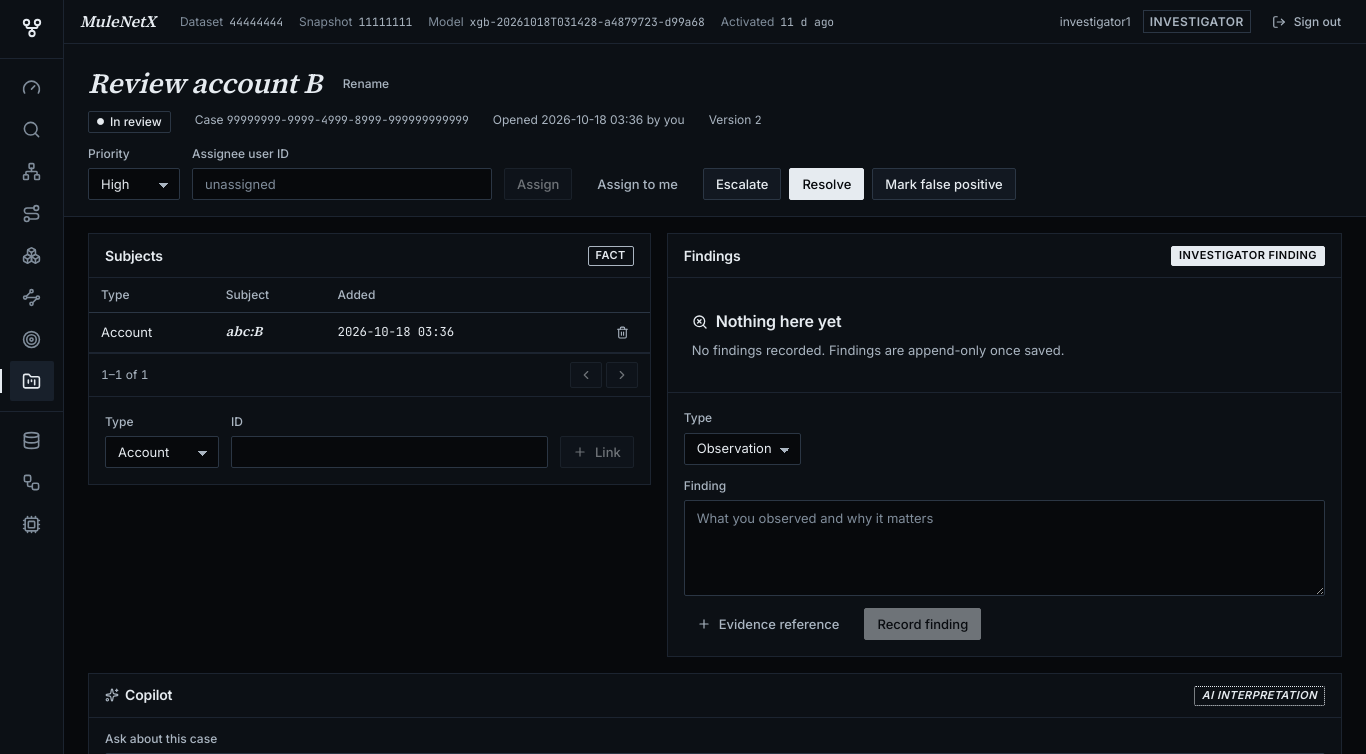
cases (T28) › offers investigators the legal transitions and applies one
Click the button "Resolve".
click(827, 184)  # box [789,168,864,200]
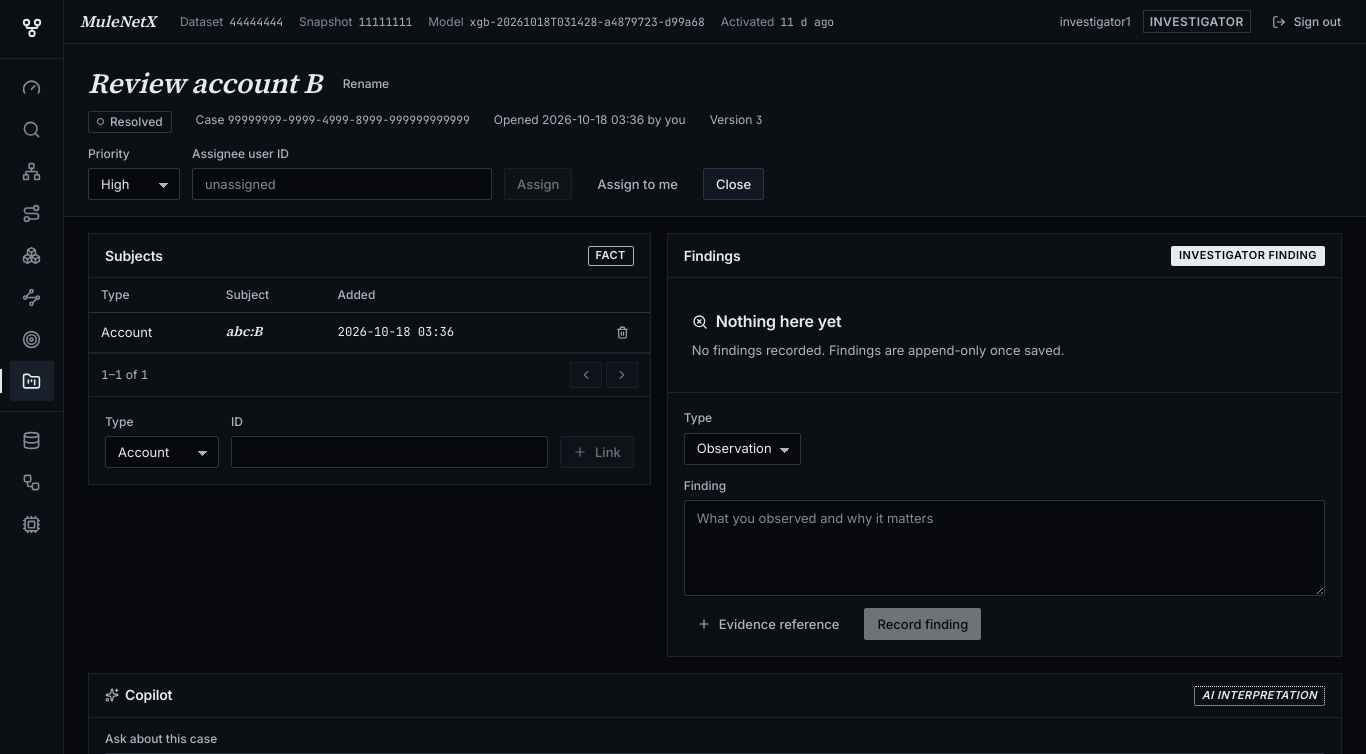
Now the text "Resolved" is shown, box [88,111,172,133]
